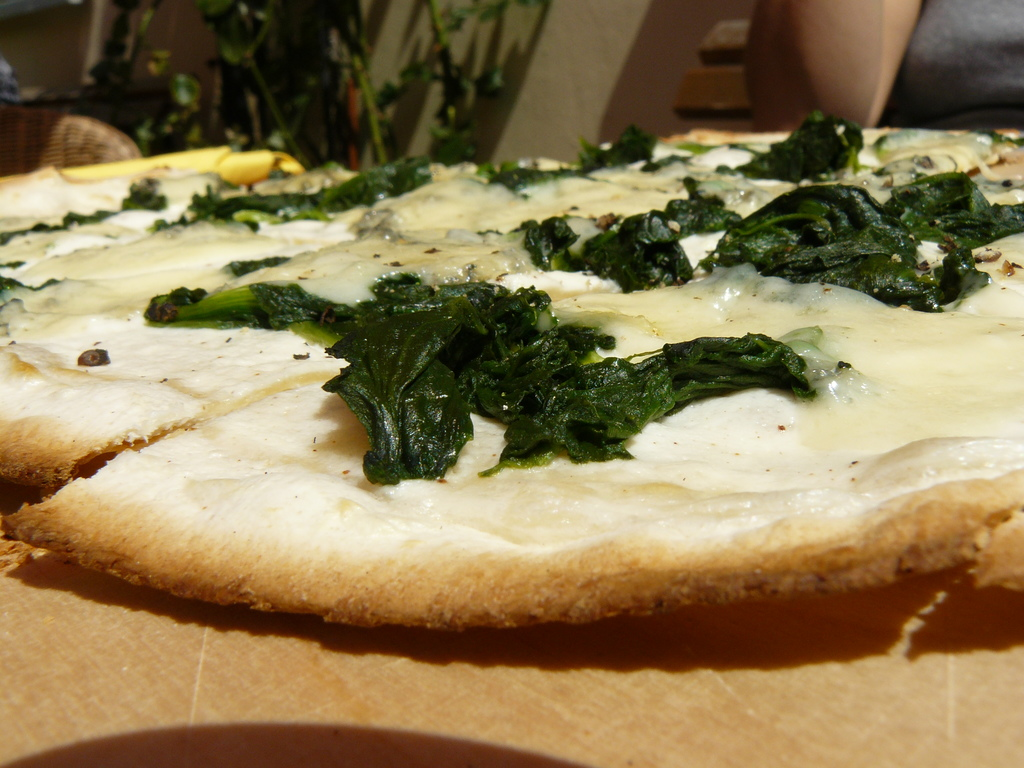Pizza: (0, 111, 1024, 648)
